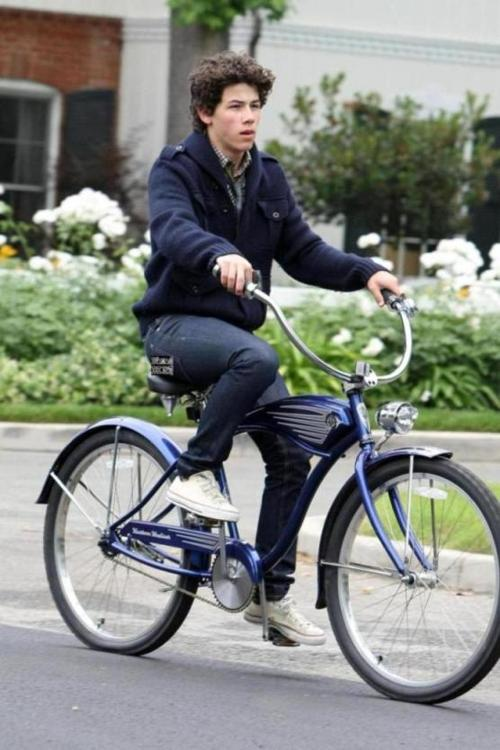person: (132, 45, 407, 651)
